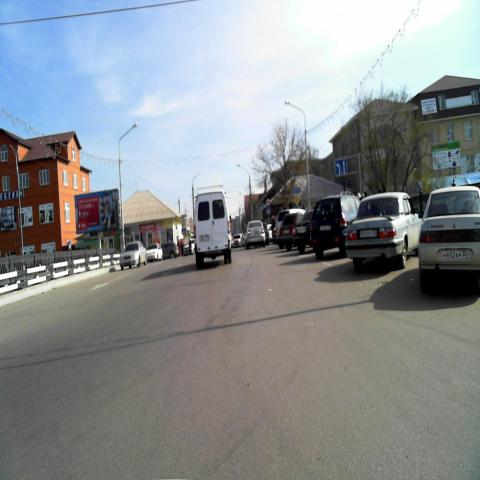5_15_2_2: (335, 158, 347, 176)
